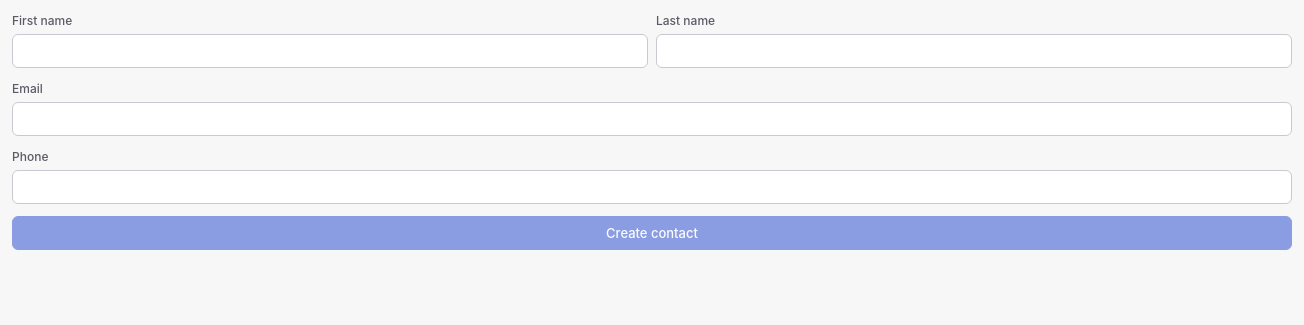
Test: ContactForm › shows the backend validation error on failure
Type "Jane" into the field labelled "First name".
click(330, 51); type("Jane")  # box [12,34,648,68]
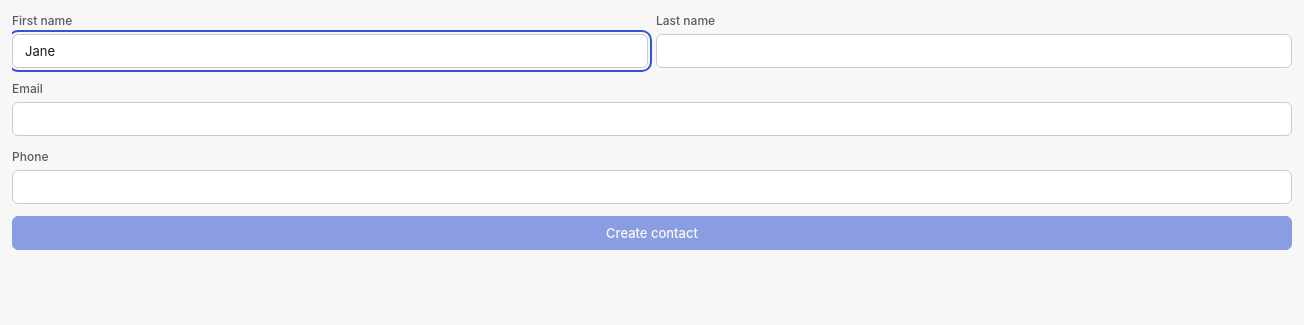
Type "Doe" into the field labelled "Last name".
click(974, 51); type("Doe")  # box [656,34,1292,68]
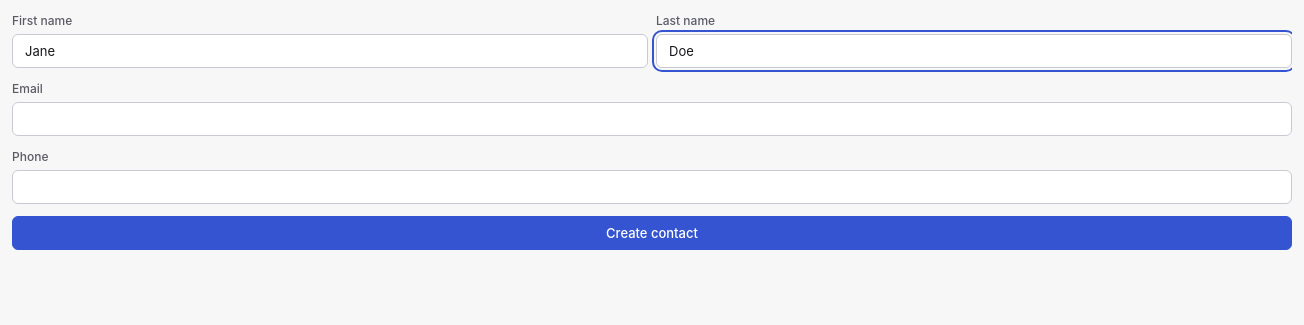
Click the button "Create contact".
click(652, 233)  # box [12,216,1292,250]
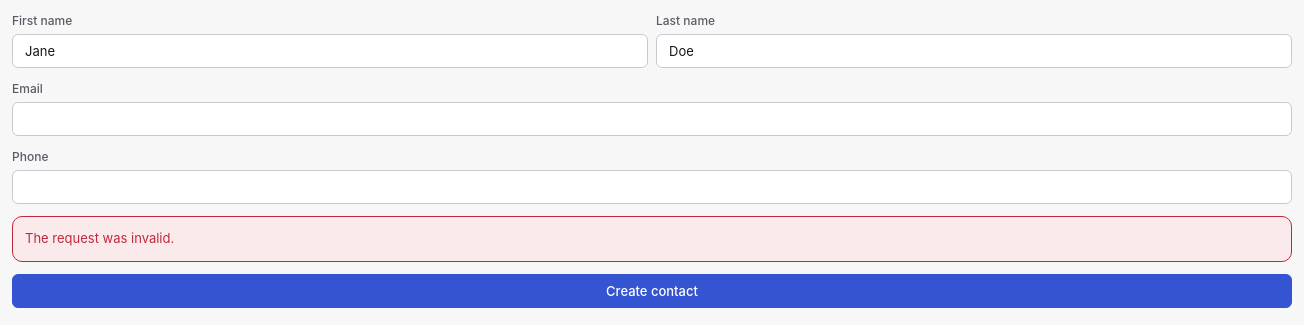
Result: the text "The request was invalid." is shown at [25,230,174,246]
